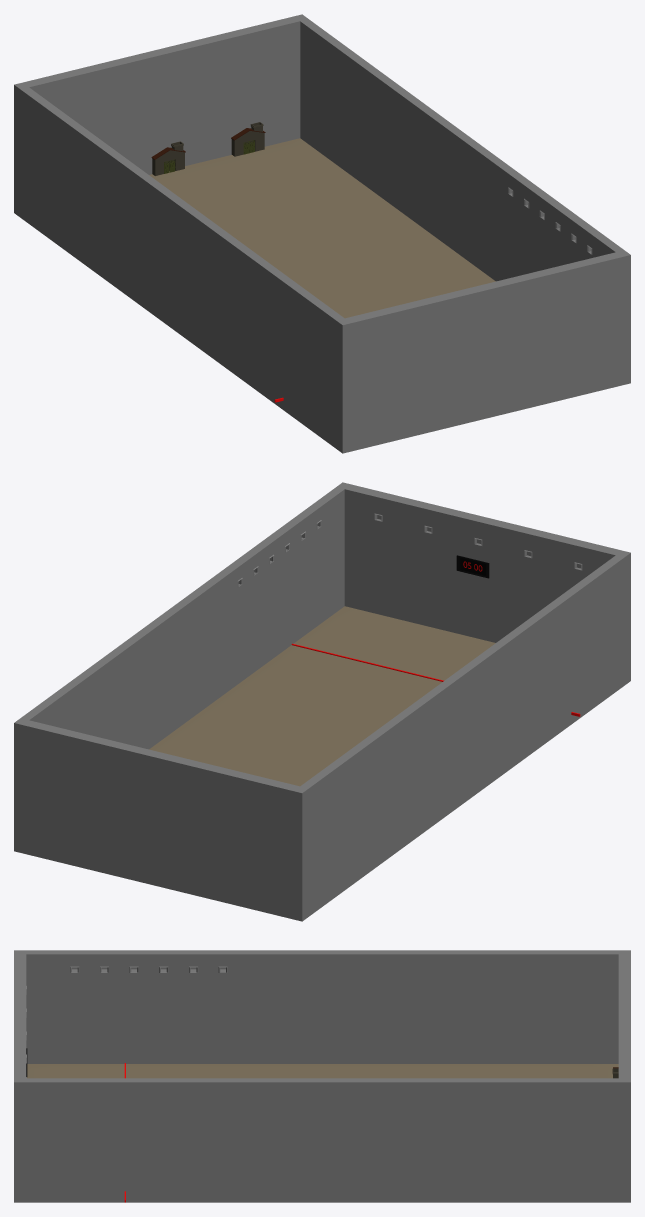
File: Squid game red light green light.fbx
The picture shows the model from 3 angles, top to bottom: view 1: azimuth 30°, elevation 25°; view 2: azimuth 150°, elevation 25°; view 3: azimuth 270°, elevation 25°; orthographic projection. The views are drawn at different scales.
Visible parts, largest first — view 1: Plane, Plane.001; view 2: Plane, Plane.001; view 3: Plane, Plane.001.
Boxes of the visible parts, <box> form: Plane: <box>14,14,630,453</box>; Plane.001: <box>149,138,495,318</box>; Plane: <box>14,482,630,921</box>; Plane.001: <box>149,606,495,786</box>; Plane: <box>14,950,630,1202</box>; Plane.001: <box>27,1064,618,1078</box>.
Bounding box in the file's own units: 7853 × 3045 × 14134.
